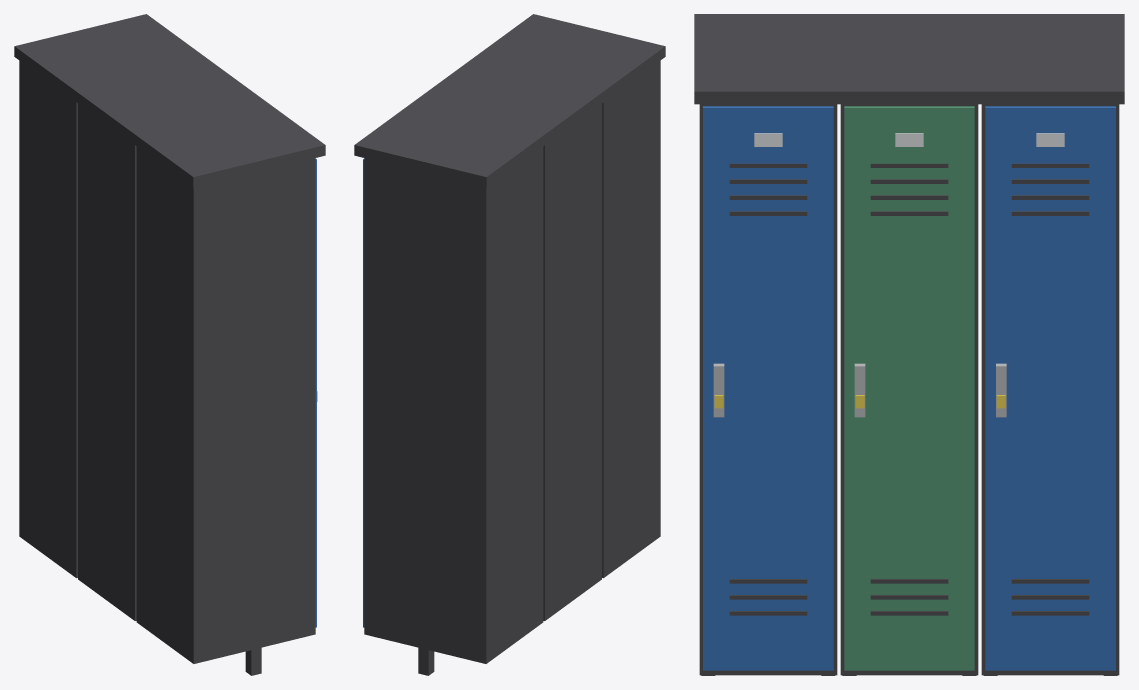
Rendered from SM_Prop_Locker.fbx.
The picture shows the model from 3 angles, left to right: view 1: azimuth 30°, elevation 25°; view 2: azimuth 150°, elevation 25°; view 3: azimuth 270°, elevation 25°; orthographic projection. The views are drawn at different scales.
Parts seen in each view (by area): view 1: SM_Prop_Locker; view 2: SM_Prop_Locker; view 3: SM_Prop_Locker.
Part boxes in pixels (box(x1,y1,x2,y2)): SM_Prop_Locker: box(14, 14, 325, 675); SM_Prop_Locker: box(354, 14, 665, 675); SM_Prop_Locker: box(694, 14, 1124, 675).
Bounding box in the file's own units: 1.22 × 0.522 × 1.94.
